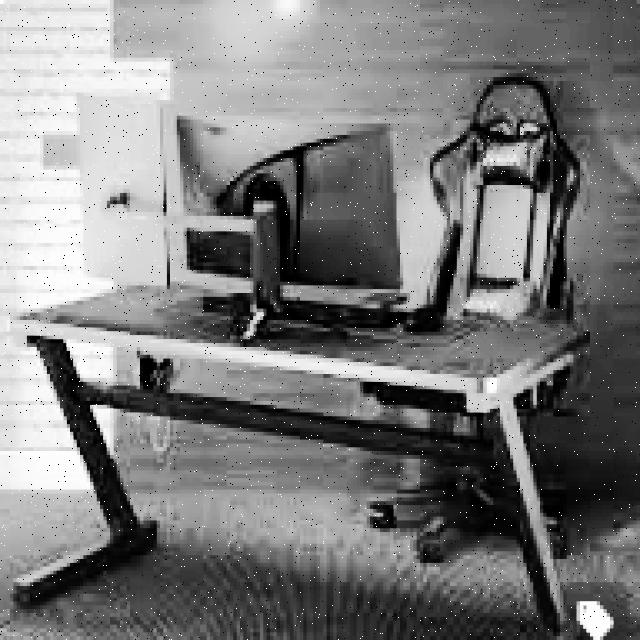book: (340, 73, 593, 640)
table: (7, 277, 594, 640)
